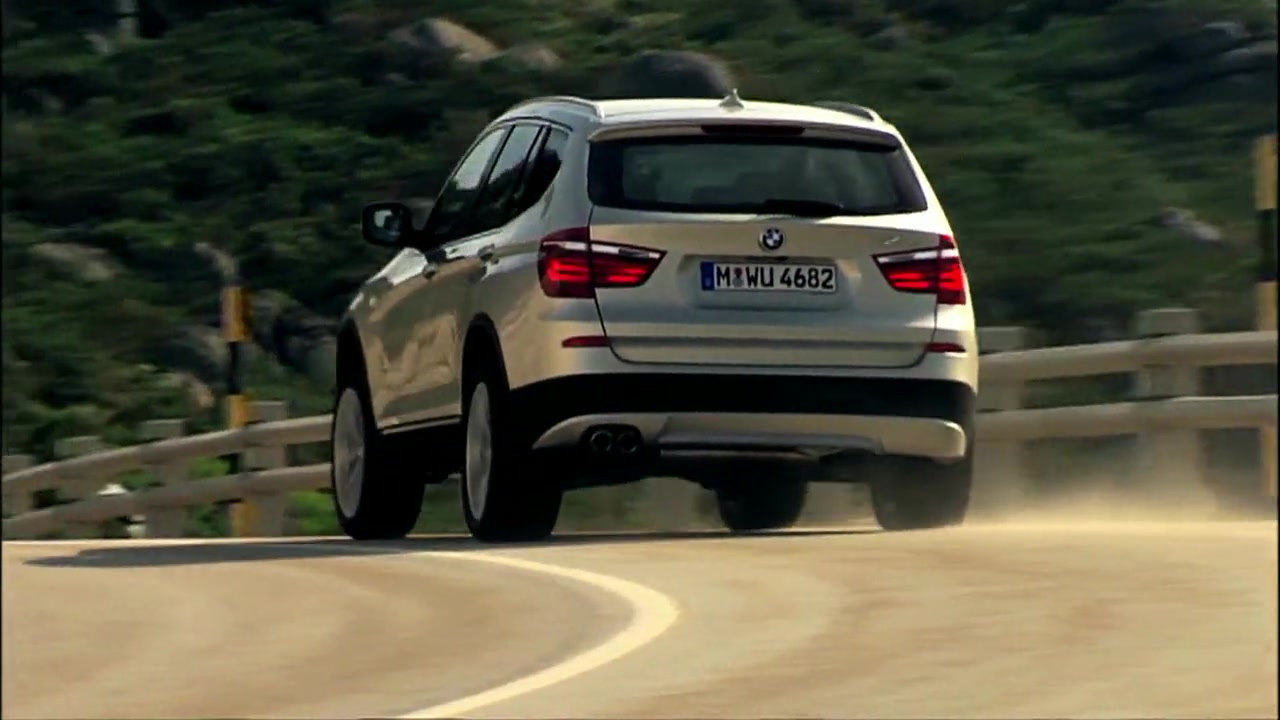car: (326, 94, 984, 543)
